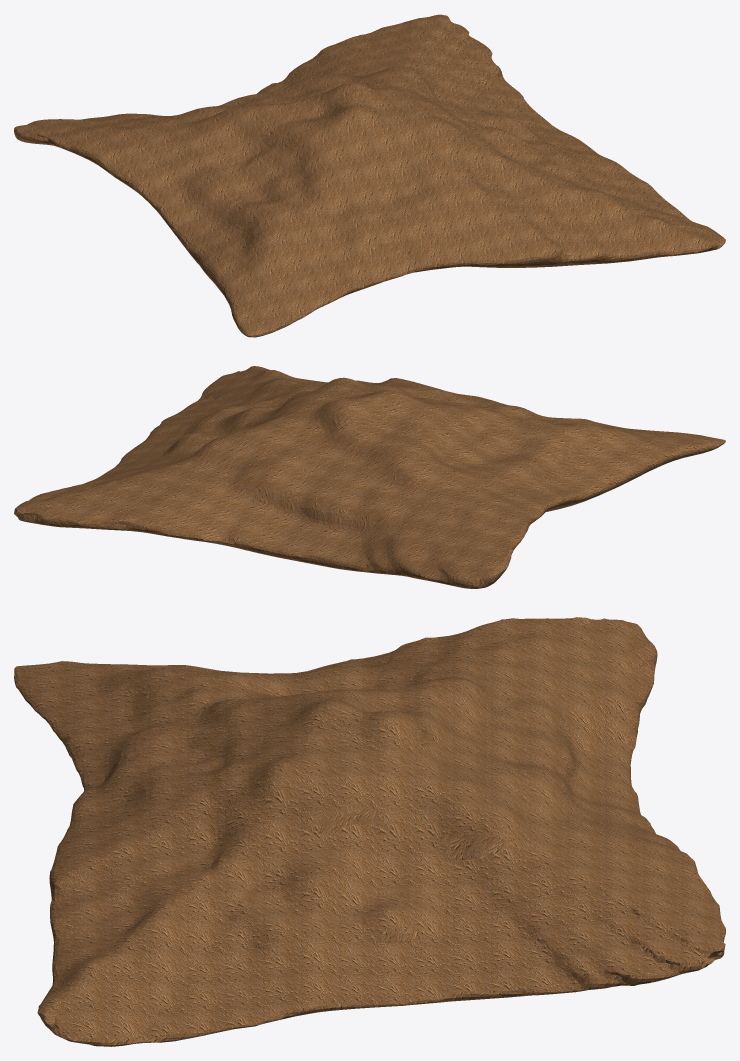
File: IslandBaseQuickPrimitive.glb
The picture shows the model from 3 angles, top to bottom: view 1: azimuth 30°, elevation 25°; view 2: azimuth 150°, elevation 25°; view 3: azimuth 270°, elevation 25°; orthographic projection. The views are drawn at different scales.
Parts seen in each view (by area): view 1: Ground-Col; view 2: Ground-Col; view 3: Ground-Col.
Boxes of the visible parts, x1,y1,x2,y2 form: Ground-Col: (14, 14, 725, 337); Ground-Col: (14, 366, 725, 588); Ground-Col: (14, 617, 725, 1046).
Size of the model in its own units: 280 by 71.24 by 262.
Materials: 1 (1 with a texture image).
